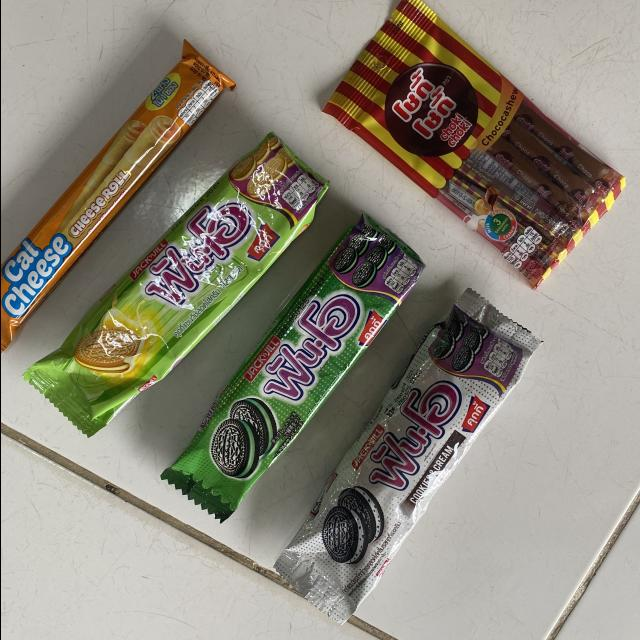plastik: (24, 133, 327, 436), (323, 0, 624, 288), (275, 294, 534, 621), (160, 215, 423, 521), (0, 42, 234, 352)
